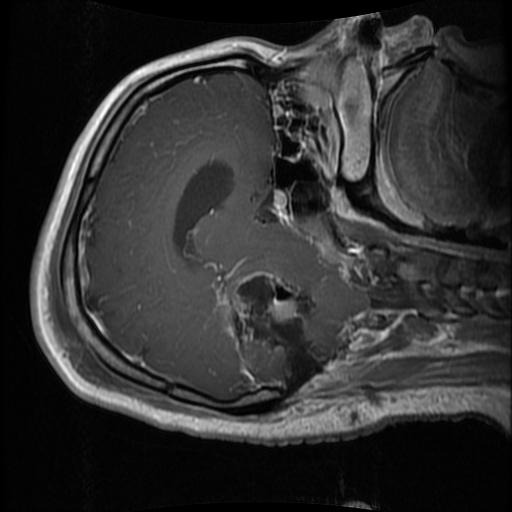glioma: (230, 272, 322, 383)
